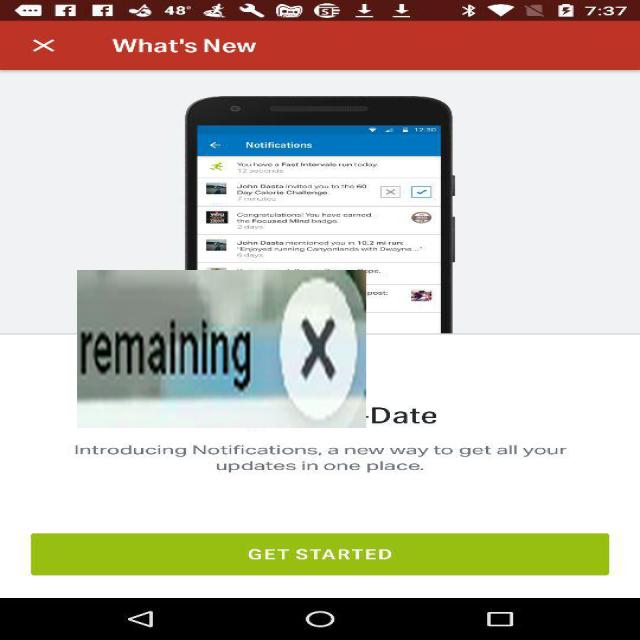misdirection: (77, 270, 366, 428)
